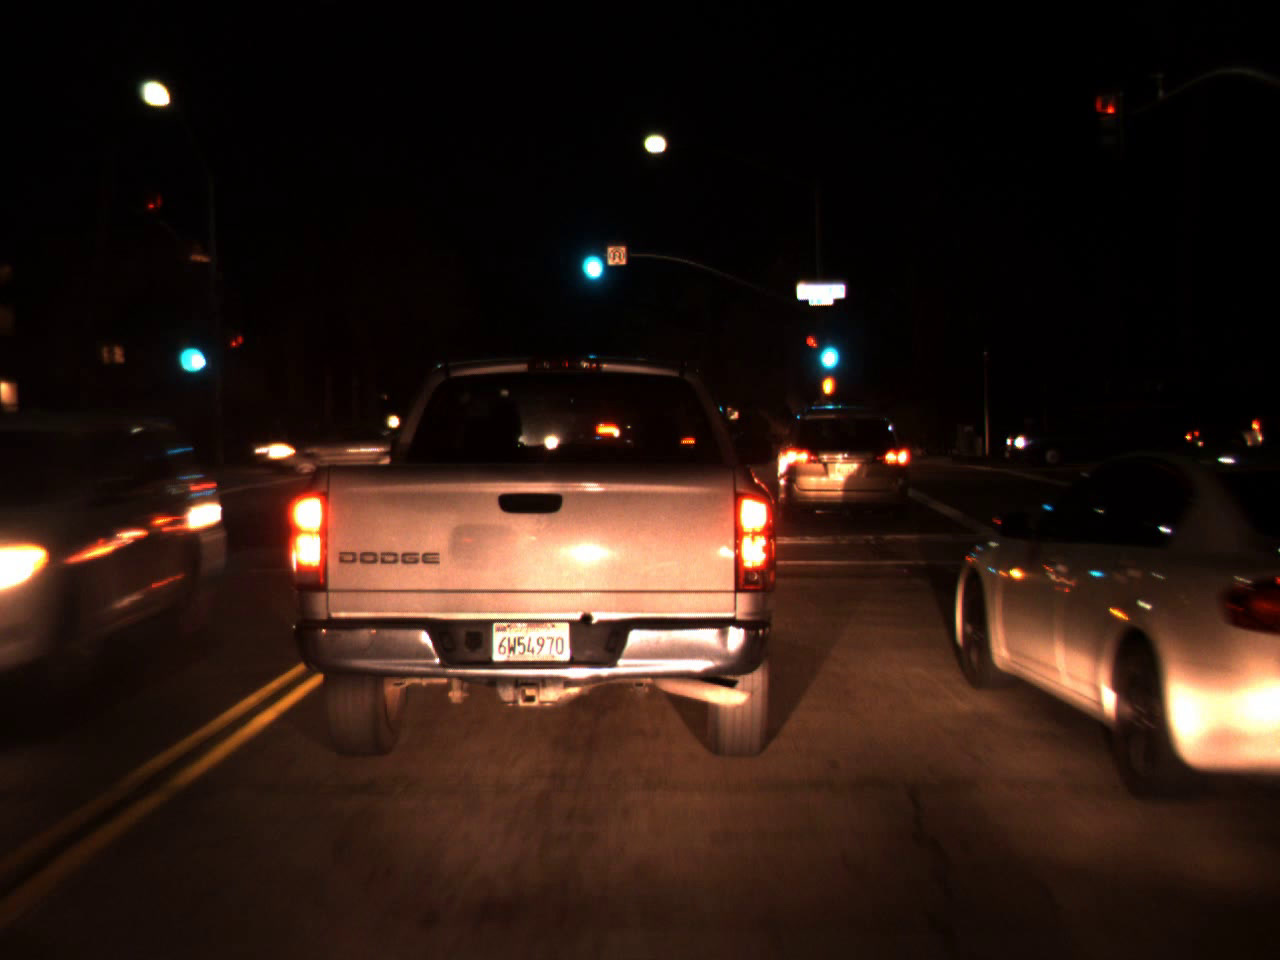go: (573, 225, 607, 288), (172, 320, 208, 377), (812, 318, 842, 378)
